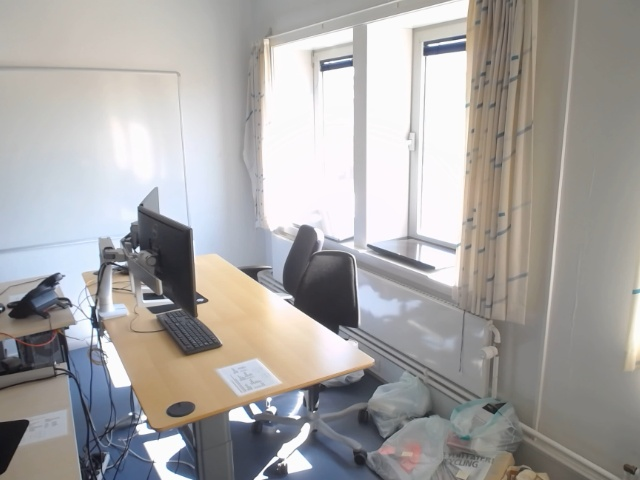robot: (0, 199, 186, 479)
